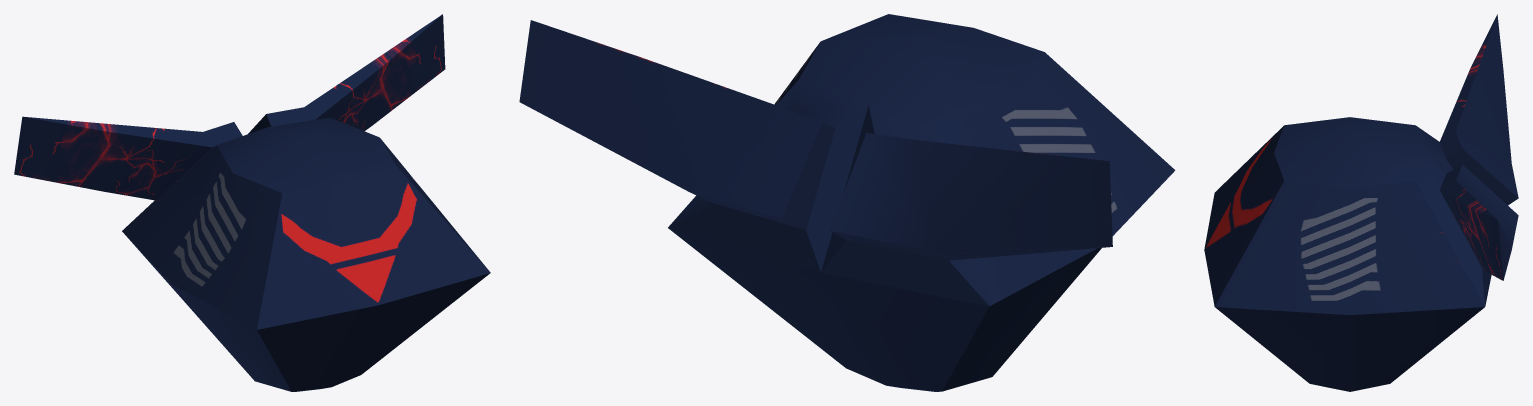
The model's file is Pyramid_Drone_Enemy.fbx.
The picture shows the model from 3 angles, left to right: view 1: azimuth 30°, elevation 25°; view 2: azimuth 150°, elevation 25°; view 3: azimuth 270°, elevation 25°; orthographic projection. The views are drawn at different scales.
Visible parts, largest first — view 1: pPyramid3; view 2: pPyramid3; view 3: pPyramid3.
Part boxes in pixels (x1,y1,x2,y2): pPyramid3: (14,14,490,391); pPyramid3: (519,14,1175,391); pPyramid3: (1204,14,1518,391).
Size of the model in its own units: 8.54 by 4.99 by 5.38.
Materials: 1 (1 with a texture image).
